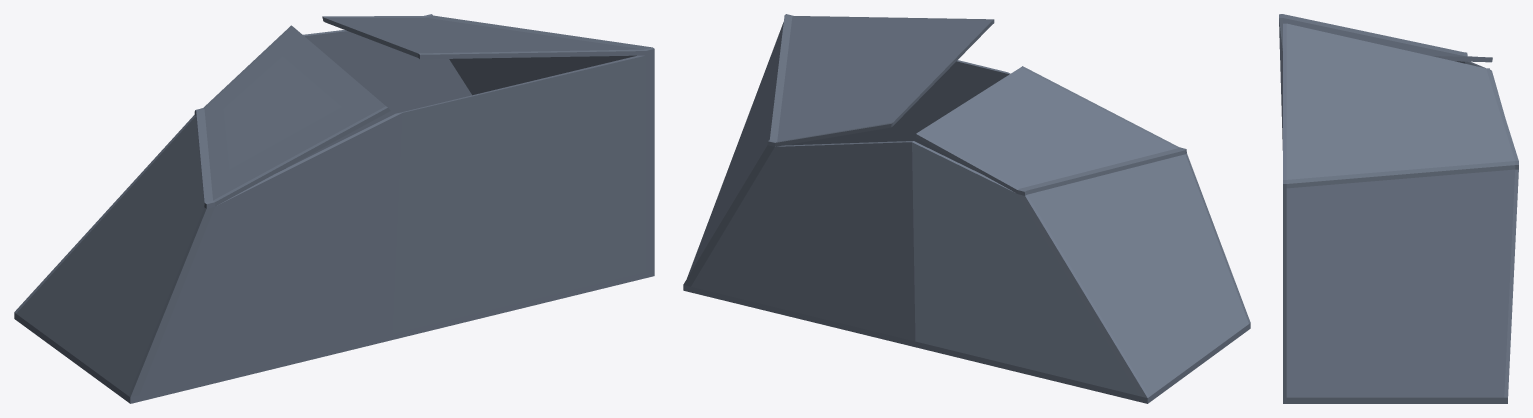
3 renders of one model, left to right at view 1: azimuth 30°, elevation 25°; view 2: azimuth 150°, elevation 25°; view 3: azimuth 270°, elevation 25°, orthographic. The views are drawn at different scales.
Visible parts, largest first — view 1: Куб; view 2: Куб; view 3: Куб.
Part boxes in pixels (bbox=[...]): Куб: bbox=[14, 14, 654, 403]; Куб: bbox=[683, 14, 1250, 403]; Куб: bbox=[1279, 14, 1518, 403].
Size of the model in its own units: 355 by 180 by 146.
